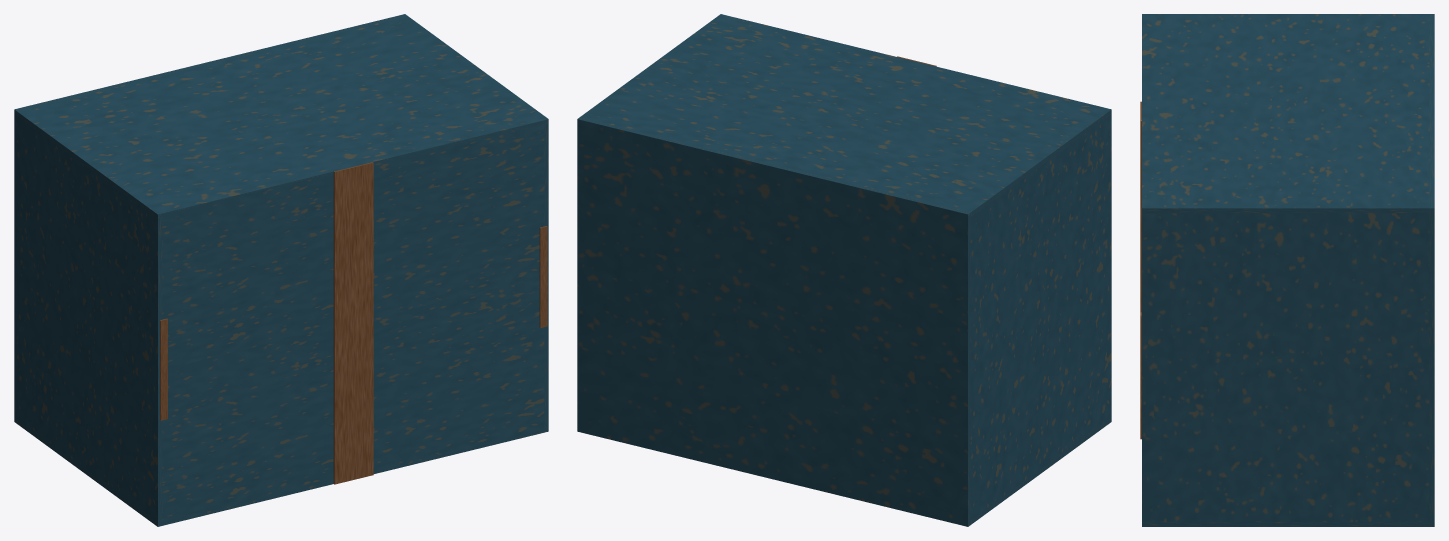
The model's file is ASSET_CARTON_LARGE_550.glb.
3 renders of one model, left to right at view 1: azimuth 30°, elevation 25°; view 2: azimuth 150°, elevation 25°; view 3: azimuth 270°, elevation 25°, orthographic.
Parts seen in each view (by area): view 1: CARTON_LARGE_550_back_wall, CARTON_LARGE_550_back_top_flap, CARTON_LARGE_550_front_top_flap, CARTON_LARGE_550_left_wall, CARTON_LARGE_550_top_tape_strip, CARTON_LARGE_550_bottom, CARTON_LARGE_550_front_wall, CARTON_LARGE_550_right_wall, CARTON_LARGE_550_side_seam_tape_02, CARTON_LARGE_550_side_seam_tape_01; view 2: CARTON_LARGE_550_bottom, CARTON_LARGE_550_back_wall, CARTON_LARGE_550_left_wall, CARTON_LARGE_550_front_wall; view 3: CARTON_LARGE_550_right_wall, CARTON_LARGE_550_back_wall, CARTON_LARGE_550_bottom, CARTON_LARGE_550_front_wall, CARTON_LARGE_550_top_tape_strip.
Boxes of the visible parts, x1,y1,x2,y2 form: CARTON_LARGE_550_back_wall: (17,16,548,219); CARTON_LARGE_550_back_top_flap: (162,122,544,368); CARTON_LARGE_550_front_top_flap: (162,277,544,524); CARTON_LARGE_550_left_wall: (17,116,162,521); CARTON_LARGE_550_top_tape_strip: (333,162,373,484); CARTON_LARGE_550_bottom: (14,14,407,423); CARTON_LARGE_550_front_wall: (17,419,548,526); CARTON_LARGE_550_right_wall: (544,124,548,427); CARTON_LARGE_550_side_seam_tape_02: (539,226,547,327); CARTON_LARGE_550_side_seam_tape_01: (160,318,167,420); CARTON_LARGE_550_bottom: (577,117,970,526); CARTON_LARGE_550_back_wall: (580,14,1111,216); CARTON_LARGE_550_left_wall: (970,114,1111,519); CARTON_LARGE_550_front_wall: (970,417,1111,524); CARTON_LARGE_550_right_wall: (1142,213,1429,521); CARTON_LARGE_550_back_wall: (1142,14,1429,213); CARTON_LARGE_550_bottom: (1429,14,1434,526); CARTON_LARGE_550_front_wall: (1142,522,1429,526); CARTON_LARGE_550_top_tape_strip: (1140,101,1141,439).
Size of the model in its own units: 0.55 by 0.423 by 0.352.
Materials: 1 (1 with a texture image).
